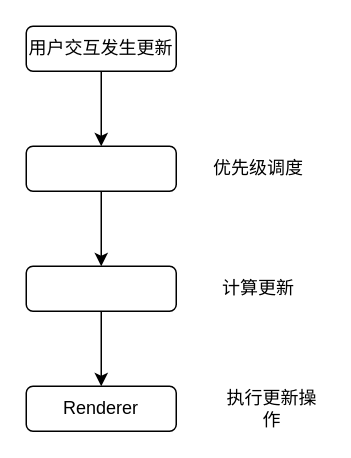
Image size: 351x458. Some labels were removed from this diagram. The shapes that lost their labels are listed below. From the top down, each one's centre as x and y in pixels, then its label:
At [100,168]: "Scheduler".
At [100,288]: "Reconciler".
